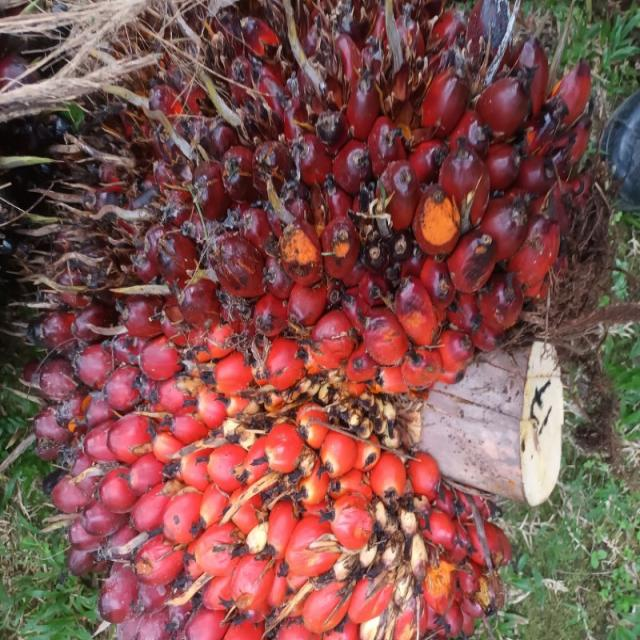fraksi 3: (0, 62, 480, 640)
